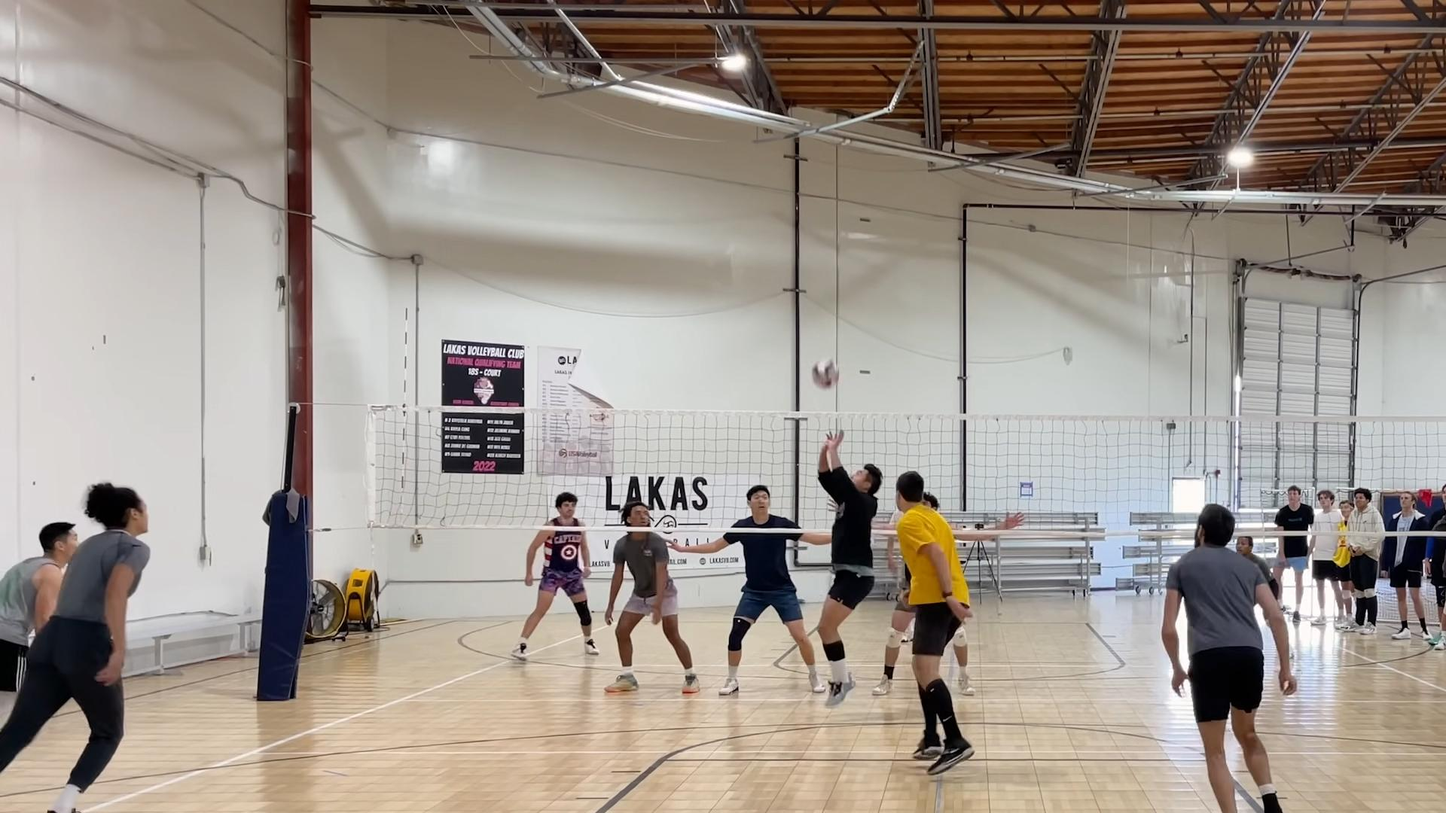alzata: (815, 431, 883, 706)
